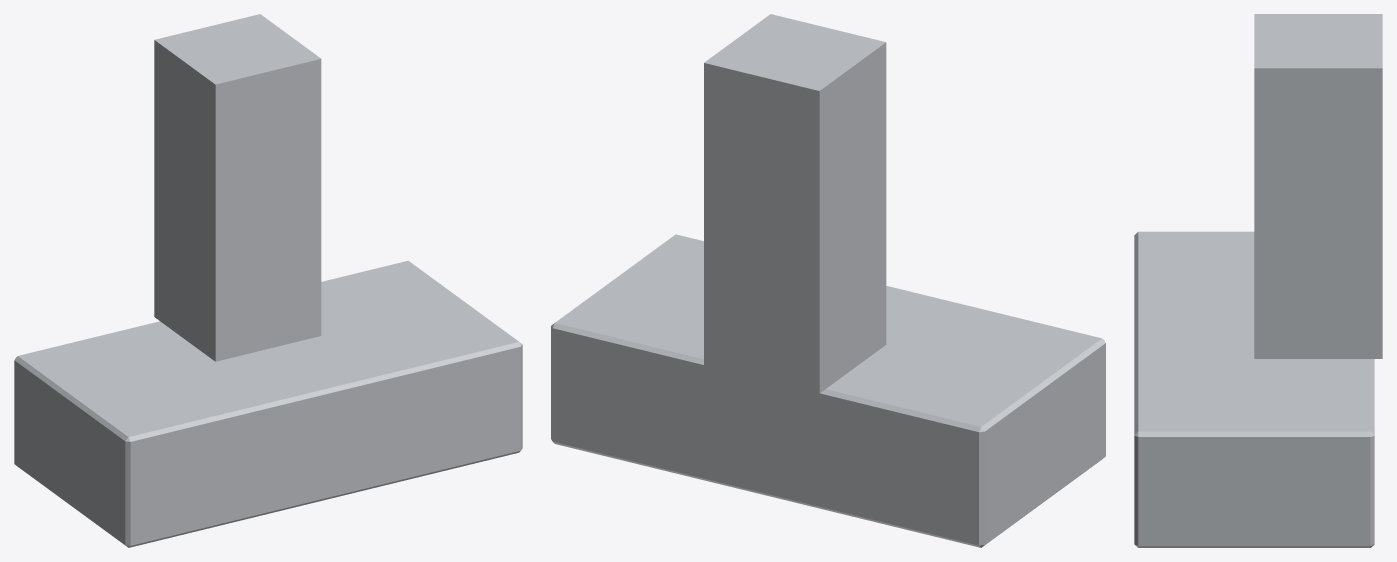
File: ExhaustHood.fbx
The picture shows the model from 3 angles, left to right: view 1: azimuth 30°, elevation 25°; view 2: azimuth 150°, elevation 25°; view 3: azimuth 270°, elevation 25°; orthographic projection. The views are drawn at different scales.
Parts seen in each view (by area): view 1: ExhaustHood; view 2: ExhaustHood; view 3: ExhaustHood.
Part boxes in pixels (bbox=[...]): ExhaustHood: bbox=[14, 14, 522, 547]; ExhaustHood: bbox=[551, 14, 1105, 547]; ExhaustHood: bbox=[1134, 14, 1382, 547].
Bounding box in the file's own units: 6 × 5.67 × 3.1.
1 material, 1 textured.
